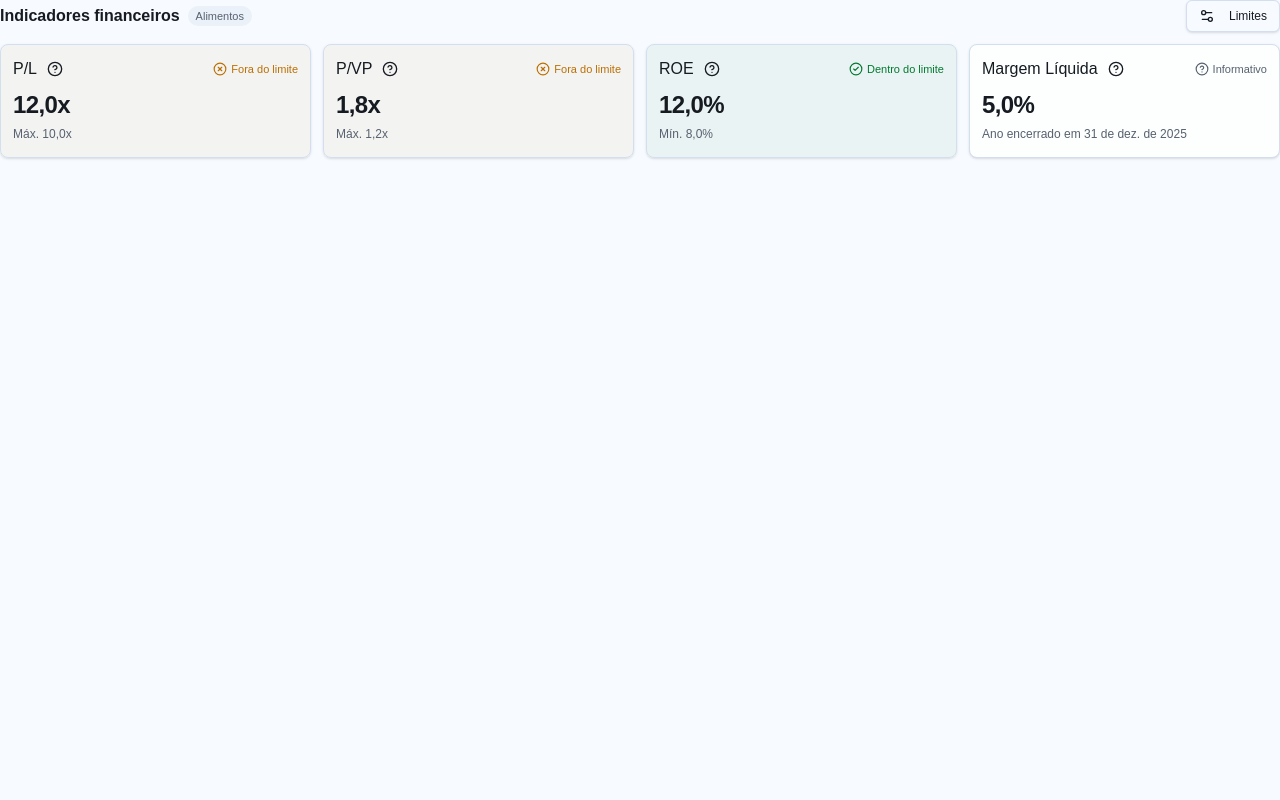
Test: StockCriteriaSummary › loads saved custom preferences and allows editing and saving them
This screenshot has width=1280, height=800.
Click the button "Limites" at (1233, 16), box [1186, 0, 1279, 32]
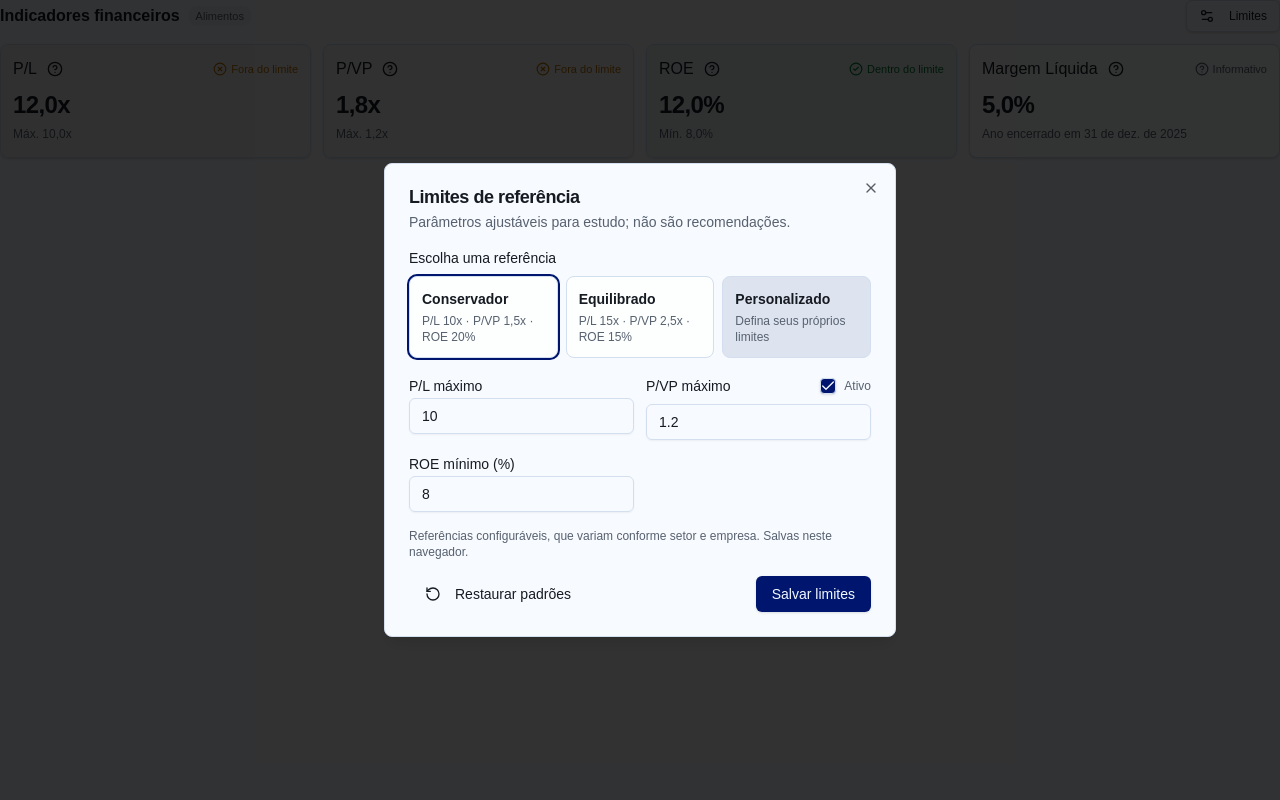
Expected: the number field labelled "P/L máximo" holds "10"
Expected: the number field labelled "ROE mínimo (%)" holds "8", [409, 476, 634, 512]
Expected: the number field labelled "P/VP máximo" holds "1.2", [646, 404, 871, 440]
Replace the text in the number field labelled "P/L máximo" with "11" at (522, 416), box [409, 398, 634, 434]
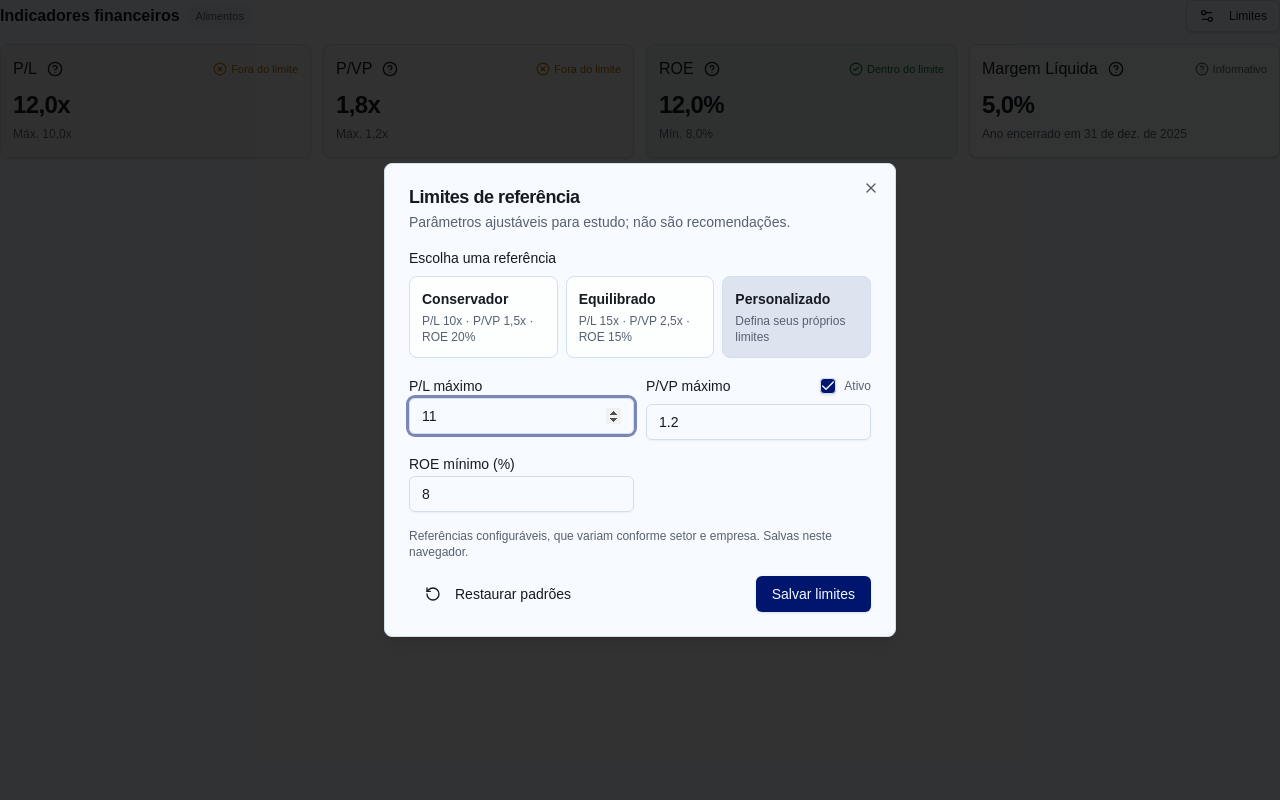
Click the button "Salvar limites" at (813, 594), box [756, 576, 871, 612]
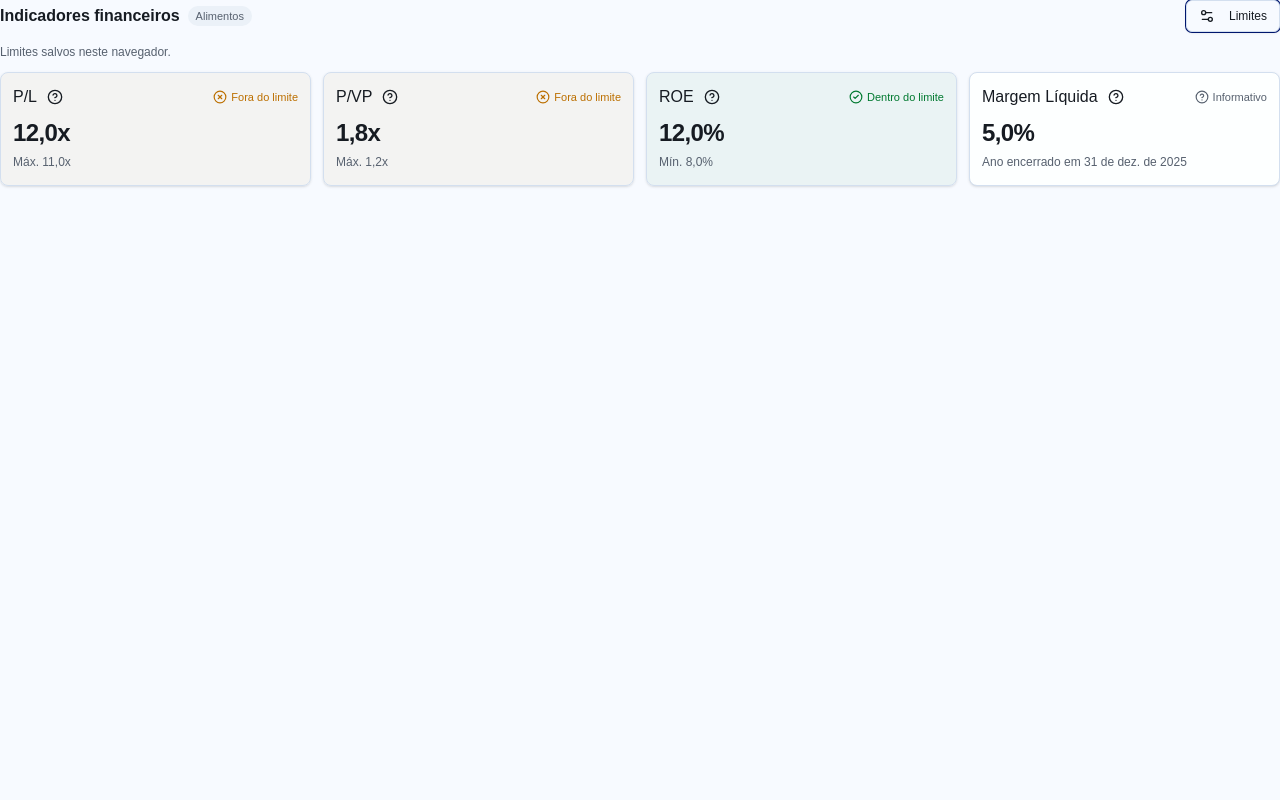
Expected: the text "Limites salvos neste navegador." is shown, [0, 45, 171, 59]
